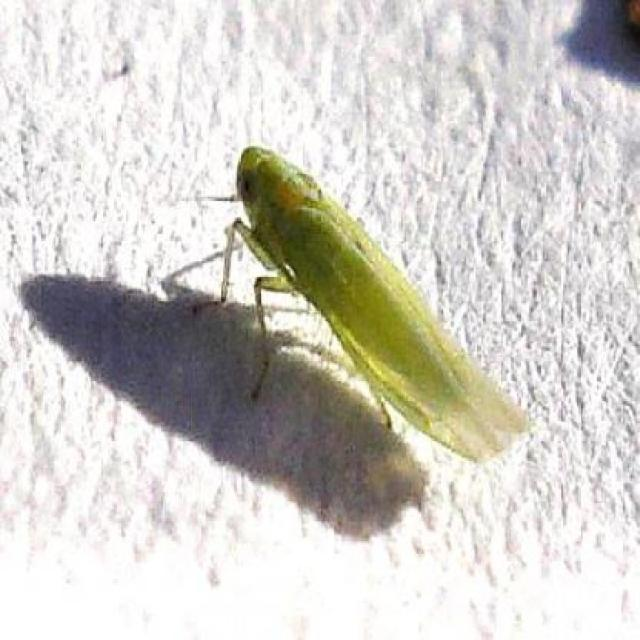green-leafhopper: (241, 144, 516, 471)
